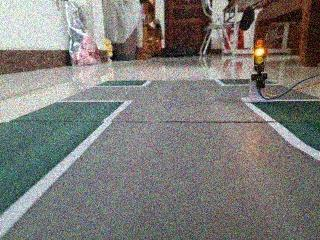yellow: (249, 34, 272, 72)
